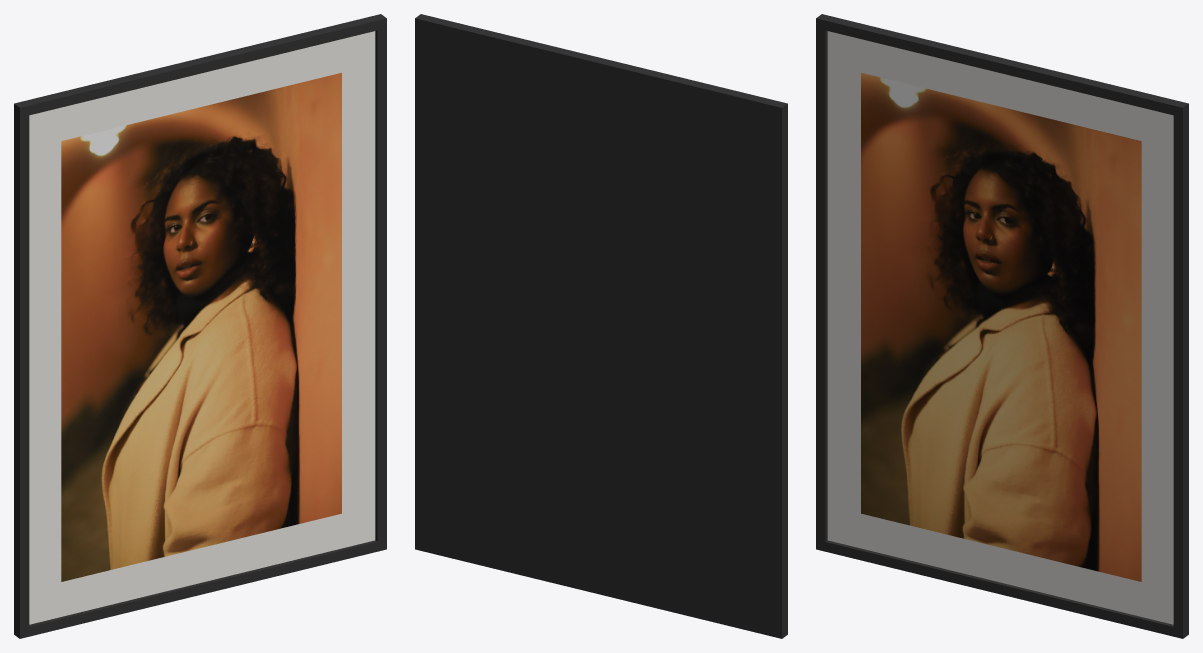
The model's file is kappan-90.gltf.
3 views of the same model, side by side, from view 1: azimuth 30°, elevation 25°; view 2: azimuth 150°, elevation 25°; view 3: azimuth 330°, elevation 25° (orthographic).
Visible parts, largest first — view 1: tavla; view 2: tavla; view 3: tavla.
Part boxes in pixels (left/top/right/bottom): tavla: left=14, top=14, right=386, bottom=638; tavla: left=415, top=14, right=787, bottom=638; tavla: left=816, top=14, right=1188, bottom=638.
Size of the model in its own units: 0.784 by 1.08 by 0.022.
3 materials, 1 textured.
